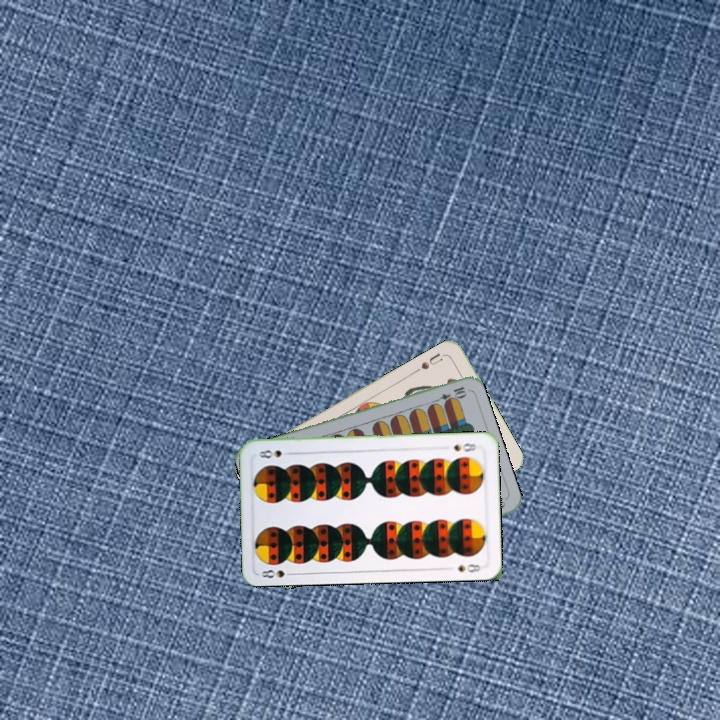E10: (429, 382, 469, 406)
S8: (257, 566, 297, 580), (450, 439, 479, 454)
SU: (411, 349, 449, 375)
